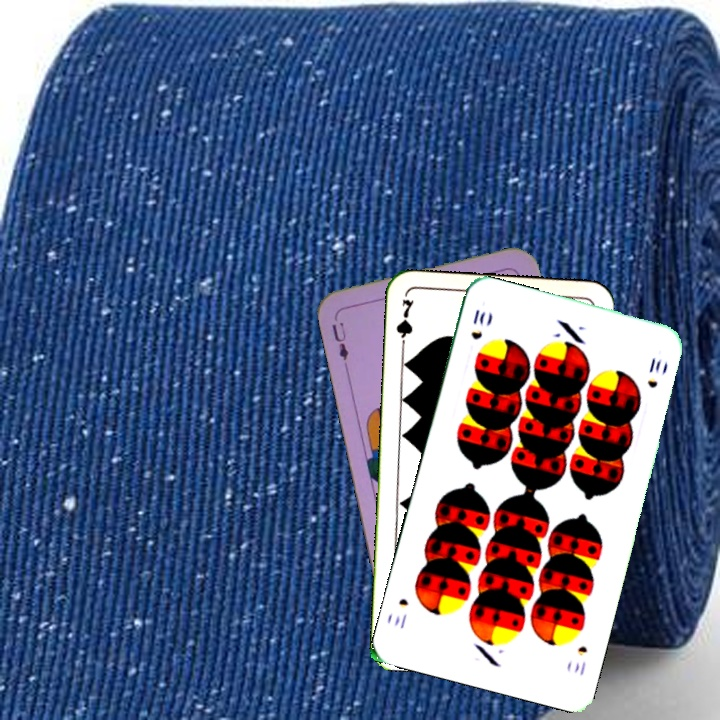EU: (328, 318, 351, 363)
G7: (392, 295, 417, 354)
S10: (467, 305, 488, 343), (570, 642, 590, 678)
